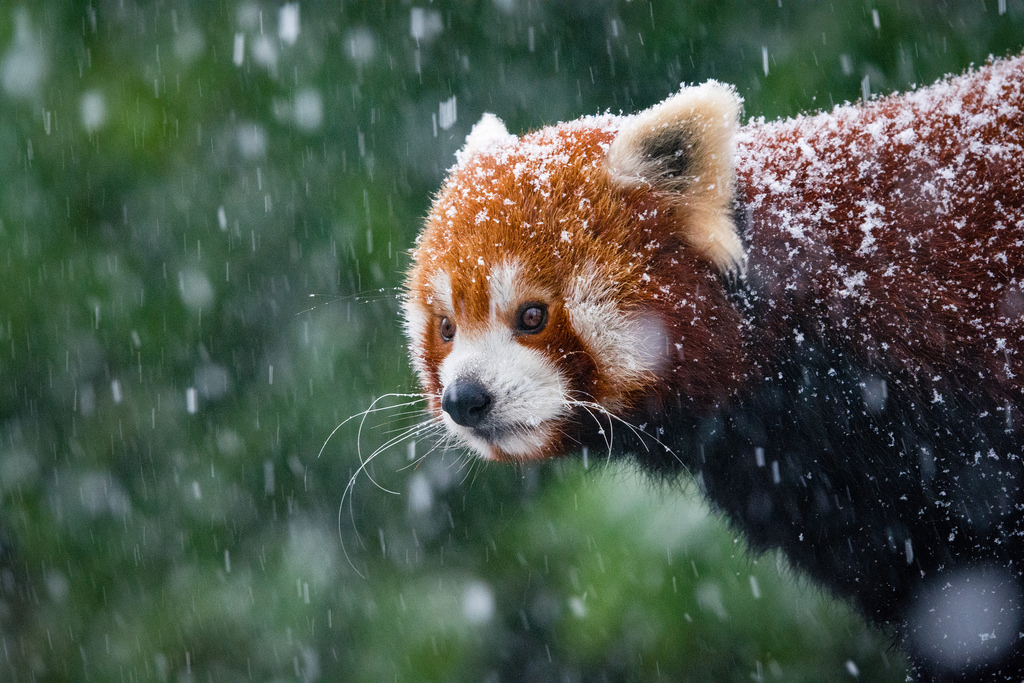red_panda: (367, 65, 1024, 613)
